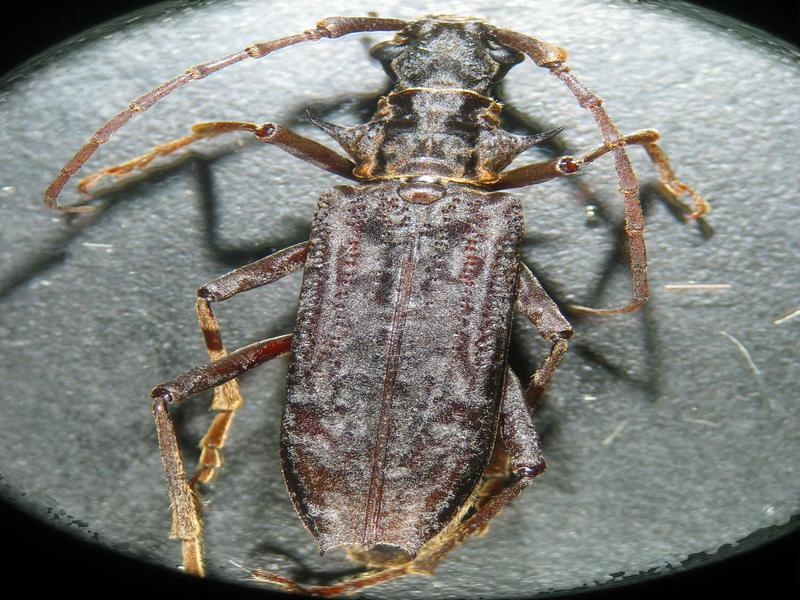Spiny_beetle: (131, 15, 650, 583)
